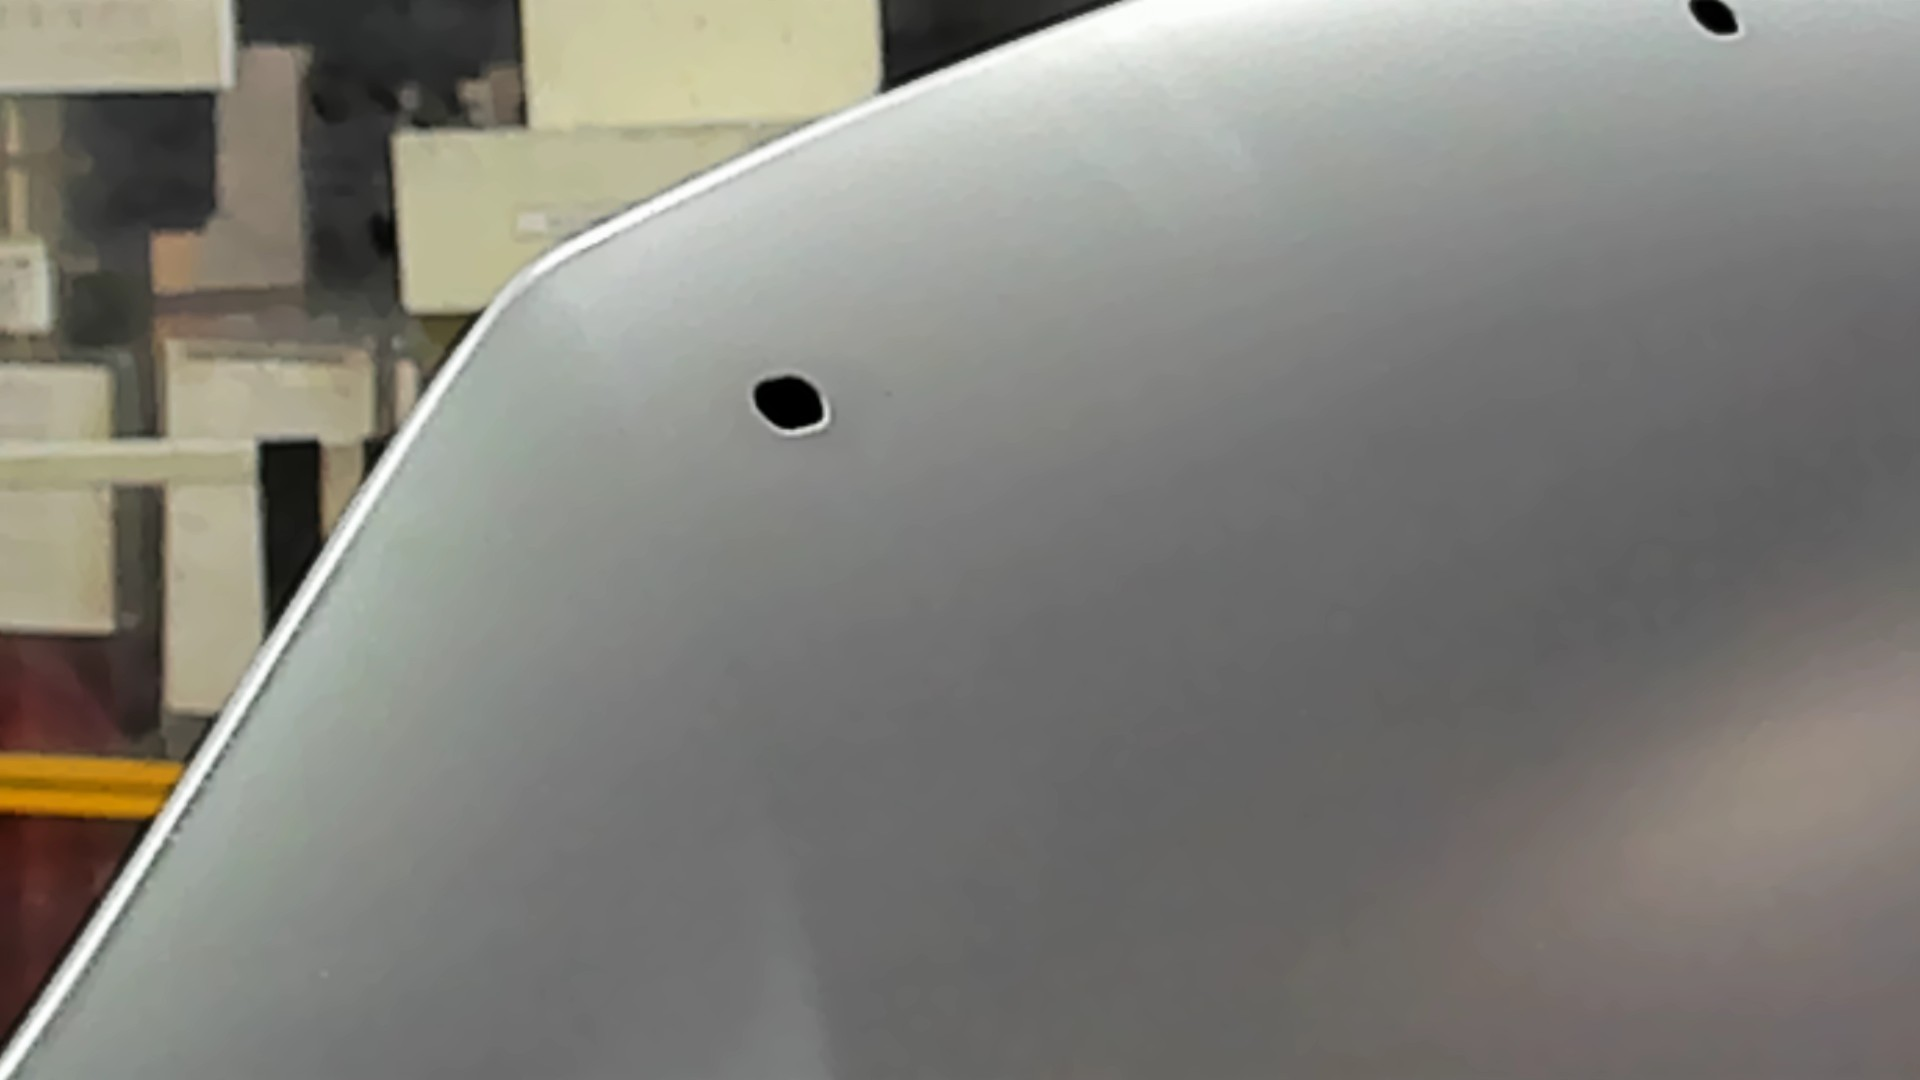amorfo: (738, 372, 837, 433), (1680, 1, 1746, 36)
